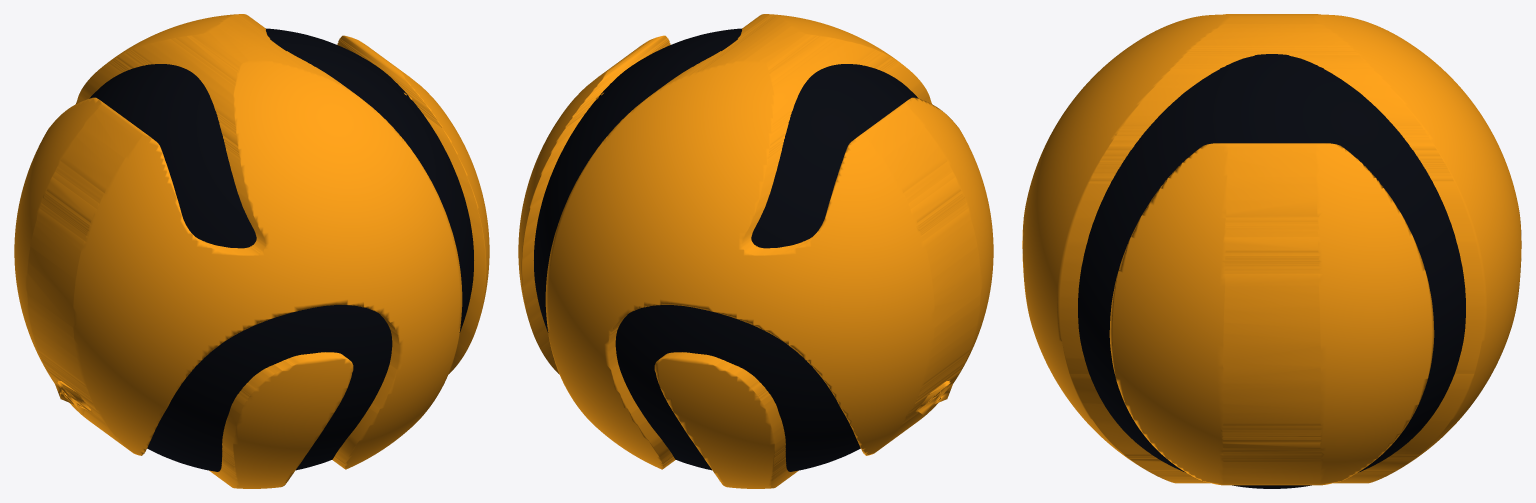
File: sinhala_kw_globe_orb.obj
The picture shows the model from 3 angles, left to right: view 1: azimuth 30°, elevation 25°; view 2: azimuth 150°, elevation 25°; view 3: azimuth 270°, elevation 25°; orthographic projection. The views are drawn at different scales.
Visible parts, largest first — view 1: Globe_Emblem_Ribbons, Globe_Obsidian_Core; view 2: Globe_Emblem_Ribbons, Globe_Obsidian_Core; view 3: Globe_Emblem_Ribbons, Globe_Obsidian_Core.
Part boxes in pixels (<box>): Globe_Emblem_Ribbons: <box>14,14,489,488</box>; Globe_Obsidian_Core: <box>89,28,473,471</box>; Globe_Emblem_Ribbons: <box>518,14,993,488</box>; Globe_Obsidian_Core: <box>534,28,918,471</box>; Globe_Emblem_Ribbons: <box>1022,14,1521,485</box>; Globe_Obsidian_Core: <box>1078,54,1465,488</box>.
Size of the model in its own units: 1.96 by 1.96 by 1.99.
